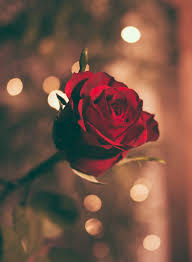rose: (43, 51, 173, 186)
